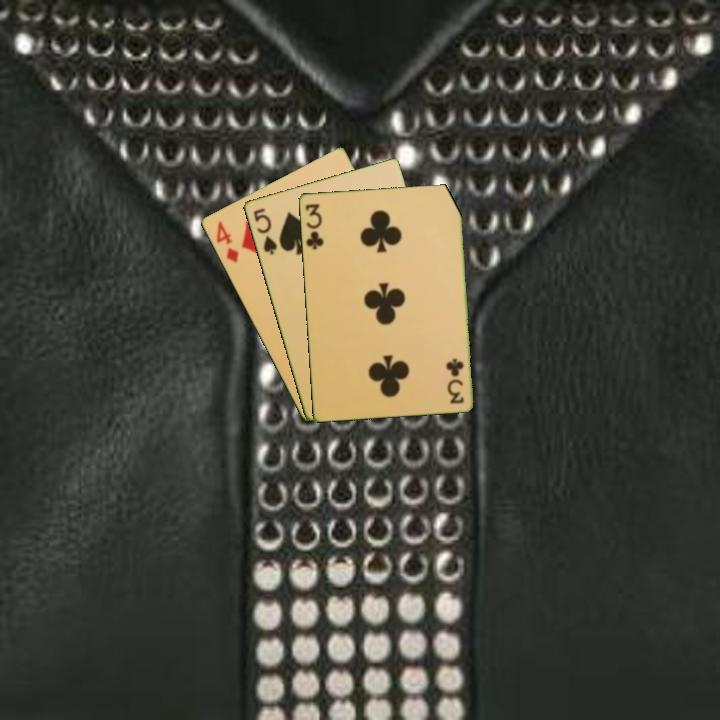3c: (301, 200, 326, 252), (444, 355, 466, 406)
4d: (212, 217, 241, 266)
5s: (250, 204, 280, 258)
